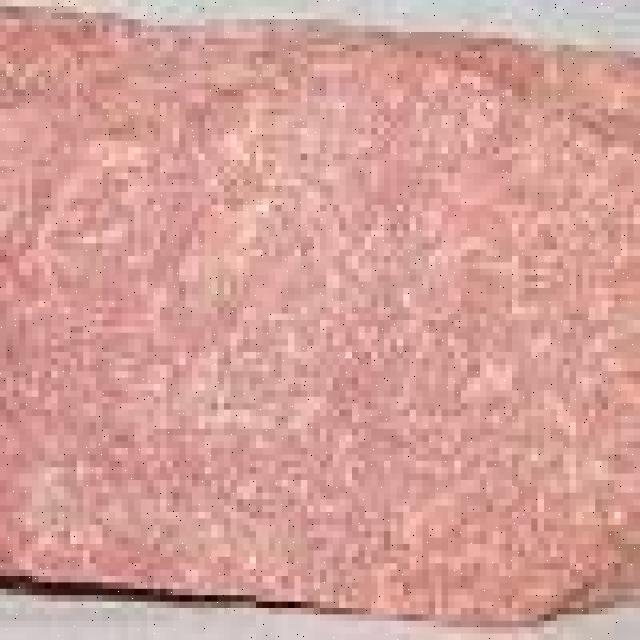Metamorphic: (6, 6, 640, 634)
